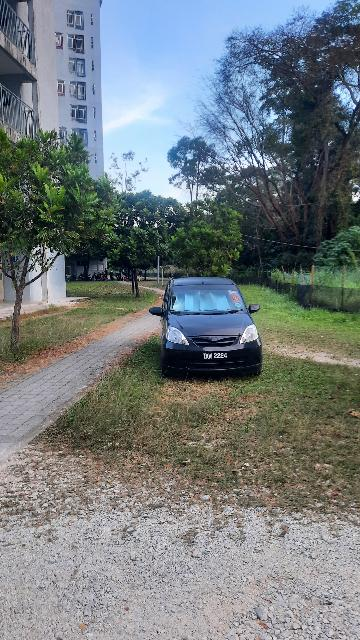License_Plate: (202, 351, 230, 363)
car: (151, 276, 268, 380)
